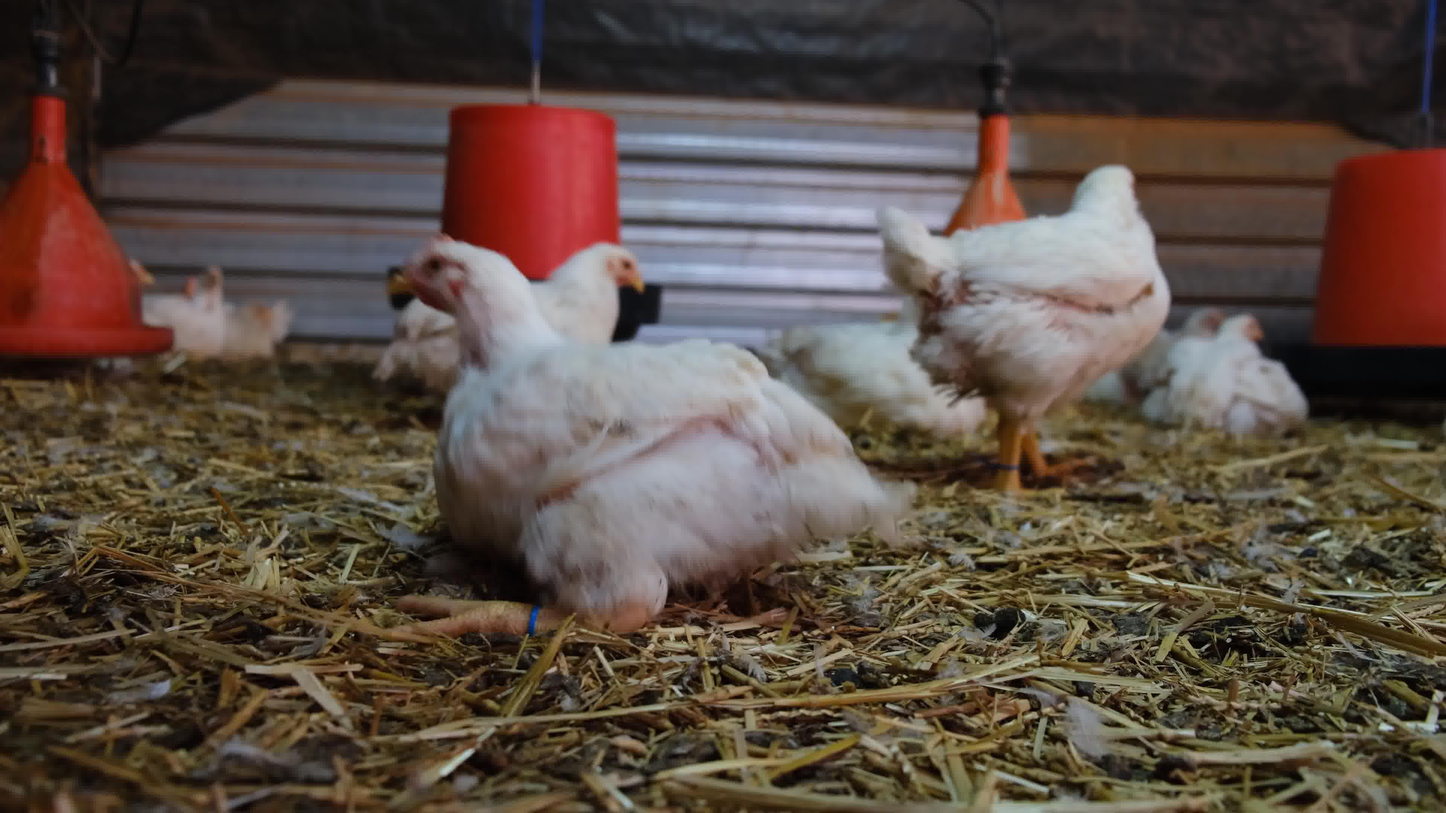AbNormal: (384, 237, 904, 638), (774, 315, 992, 438), (1161, 315, 1315, 443), (1122, 309, 1232, 404)
Normal: (882, 160, 1171, 502), (375, 241, 644, 407), (128, 264, 228, 375), (180, 274, 296, 369), (127, 251, 156, 289)
